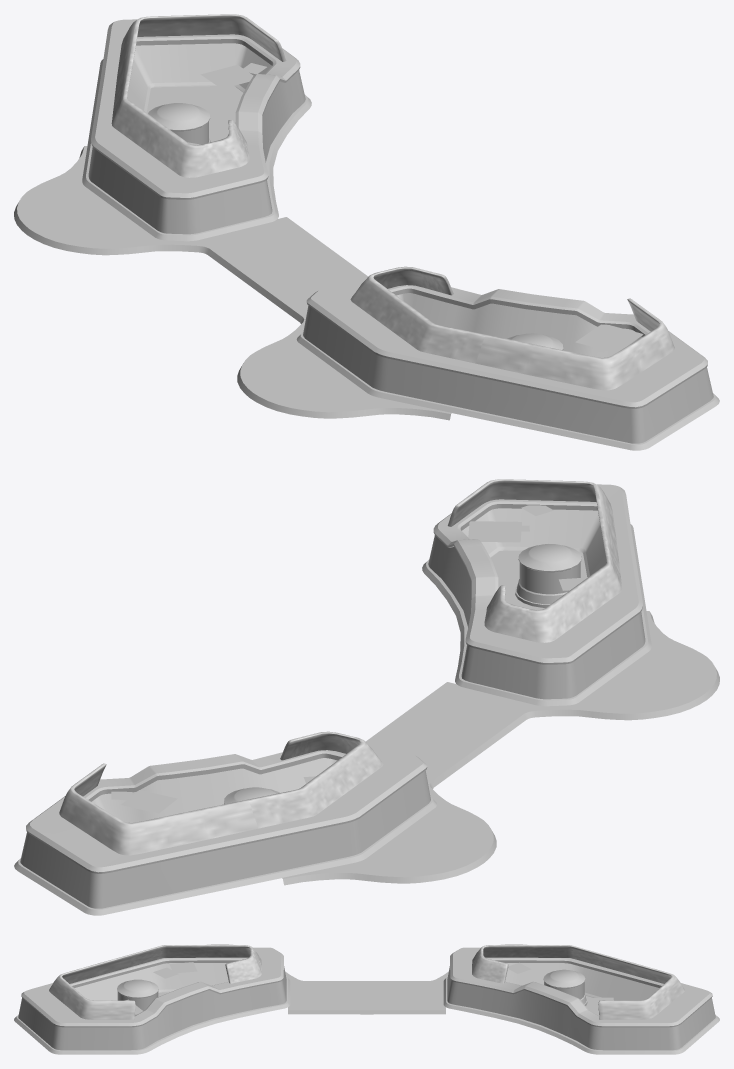
The model's file is pref_sm_beach_techcenter_floor02_lv3.fbx.
3 renders of one model, top to bottom at view 1: azimuth 30°, elevation 25°; view 2: azimuth 150°, elevation 25°; view 3: azimuth 270°, elevation 25°, orthographic. The views are drawn at different scales.
Visible parts, largest first — view 1: sm_beach_techcenter_floor02a_lv3, sm_beach_techcenter_floor02c_lv3, sm_beach_techcenter_floor02d_lv3; view 2: sm_beach_techcenter_floor02a_lv3, sm_beach_techcenter_floor02c_lv3, sm_beach_techcenter_floor02d_lv3; view 3: sm_beach_techcenter_floor02a_lv3, sm_beach_techcenter_floor02c_lv3, sm_beach_techcenter_floor02d_lv3.
Boxes of the visible parts, x1,y1,x2,y2 form: sm_beach_techcenter_floor02a_lv3: (14,19,719,450); sm_beach_techcenter_floor02c_lv3: (111,14,674,390); sm_beach_techcenter_floor02d_lv3: (188,63,643,352); sm_beach_techcenter_floor02a_lv3: (14,484,719,915); sm_beach_techcenter_floor02c_lv3: (59,479,622,855); sm_beach_techcenter_floor02d_lv3: (111,505,587,813); sm_beach_techcenter_floor02a_lv3: (14,944,719,1054); sm_beach_techcenter_floor02c_lv3: (49,945,684,1019); sm_beach_techcenter_floor02d_lv3: (111,962,613,1014).
Size of the model in its own units: 13.03 by 2.54 by 34.89.
